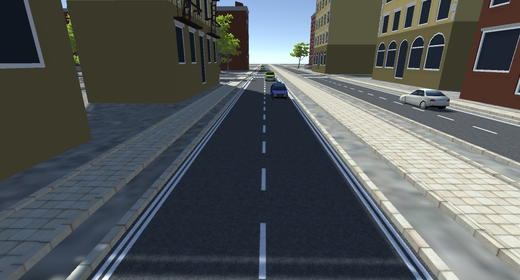centerstrip: (335, 79, 504, 136), (257, 76, 275, 279)
sidestripe: (89, 81, 248, 279), (286, 91, 433, 280)
